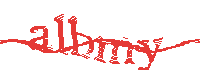a: (29, 24, 51, 54)
b: (68, 13, 94, 62)
l: (54, 13, 68, 56)
m: (95, 31, 135, 66)
